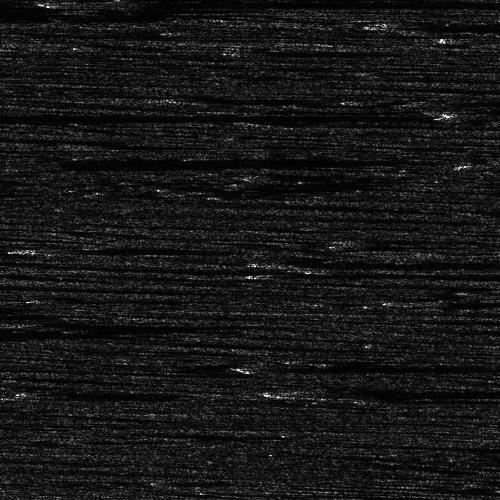object: (428, 91, 459, 136), (33, 377, 74, 410), (240, 256, 333, 267), (245, 387, 328, 396), (212, 270, 285, 277), (227, 45, 280, 54), (222, 47, 275, 56), (390, 297, 443, 304), (336, 395, 399, 400), (27, 246, 90, 251), (352, 22, 405, 27), (0, 321, 52, 326), (233, 365, 296, 368), (477, 486, 500, 491), (81, 0, 102, 2)
shadow: (0, 2, 464, 11), (54, 377, 176, 410), (0, 109, 245, 122), (0, 156, 277, 167), (443, 91, 500, 136), (287, 256, 500, 267), (0, 7, 130, 24), (287, 387, 500, 396), (249, 270, 446, 277), (15, 321, 259, 326), (254, 45, 388, 54), (249, 47, 382, 56), (59, 246, 244, 251), (0, 330, 153, 335), (368, 395, 500, 400), (92, 0, 411, 2), (379, 22, 500, 27), (265, 365, 461, 368), (417, 297, 500, 304), (0, 182, 25, 199), (465, 36, 500, 39)
